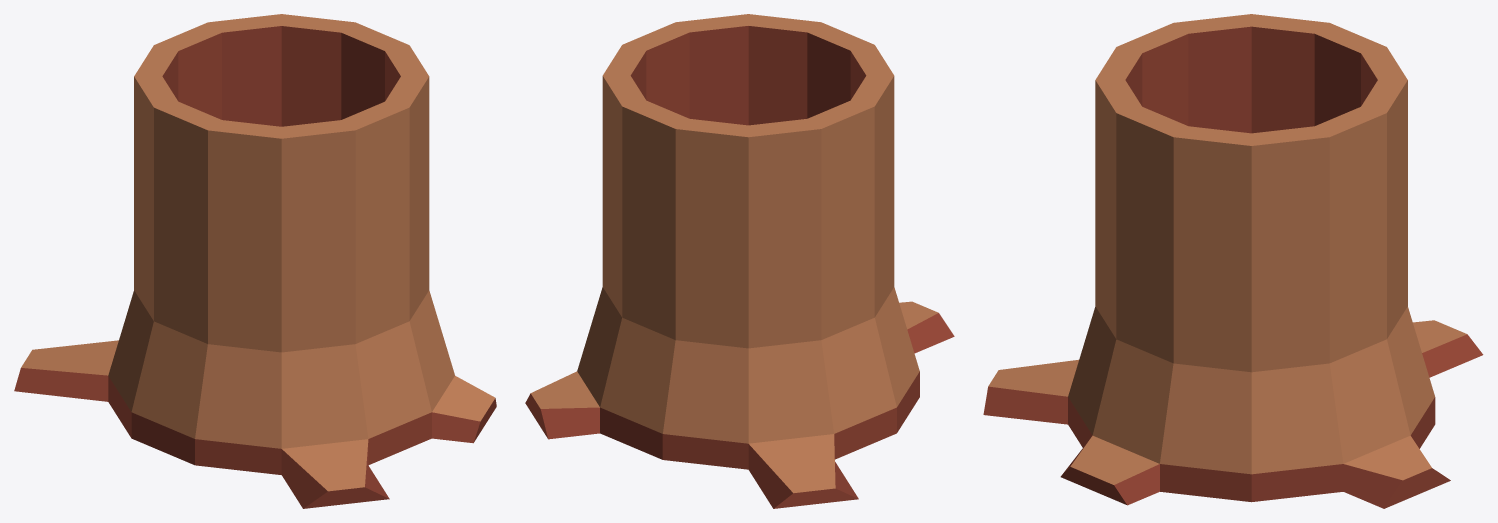
The model's file is MEIO.fbx.
The picture shows the model from 3 angles, left to right: view 1: azimuth 30°, elevation 25°; view 2: azimuth 150°, elevation 25°; view 3: azimuth 270°, elevation 25°; orthographic projection. The views are drawn at different scales.
Visible parts, largest first — view 1: Cylinder; view 2: Cylinder; view 3: Cylinder.
Boxes of the visible parts, x1=… form: Cylinder: x1=14, y1=14, x2=496, y2=508; Cylinder: x1=525, y1=14, x2=954, y2=508; Cylinder: x1=983, y1=14, x2=1483, y2=508.
Size of the model in its own units: 142 by 125 by 165.
